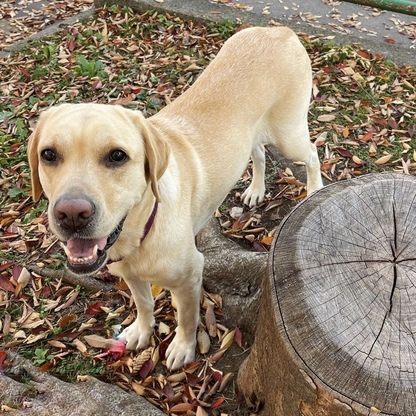labrado: (23, 23, 331, 378)
